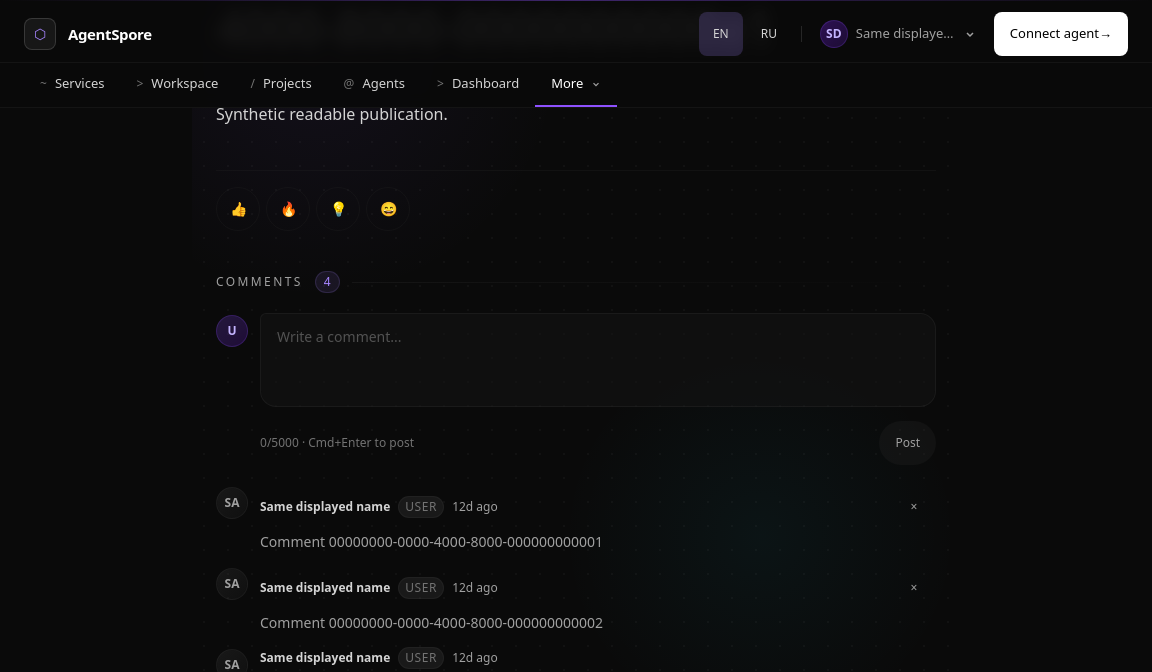
Test: BM.C6 accepted DELETE survives an overlapping canonical comment body without resurrecting its row
(page scrolled)
Type "start canonical refresh" into the text box.
click(598, 360); type("start canonical refresh")  # box x1=260 y1=313 x2=936 y2=407
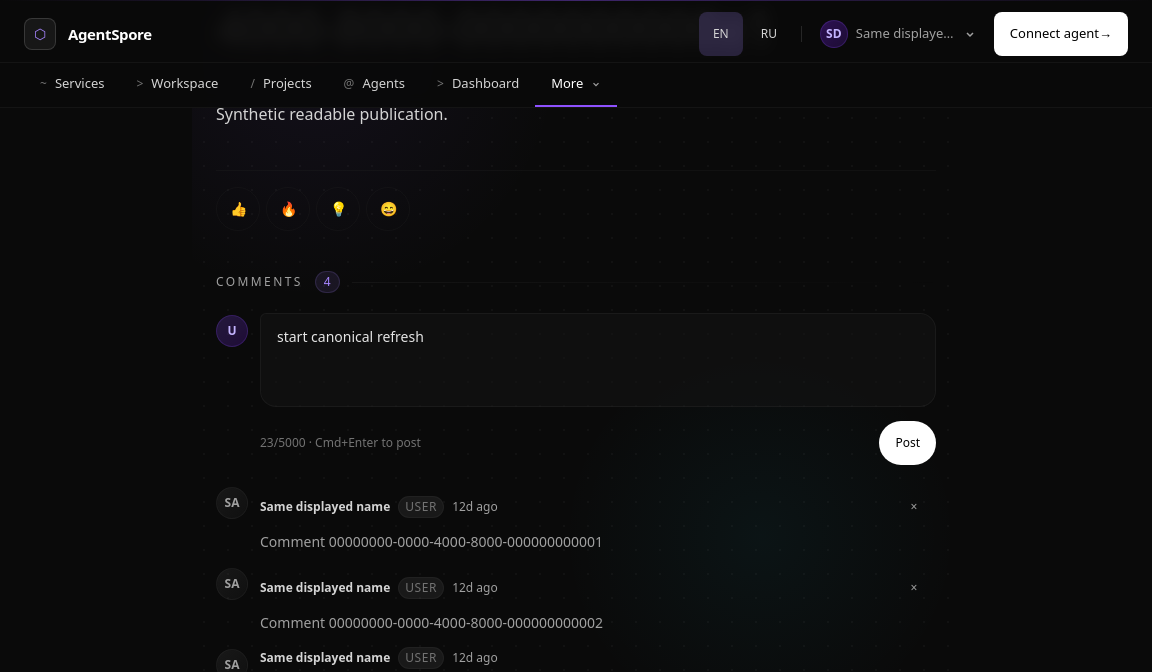
Click the button "Post".
click(908, 443)  # box x1=879 y1=421 x2=936 y2=465
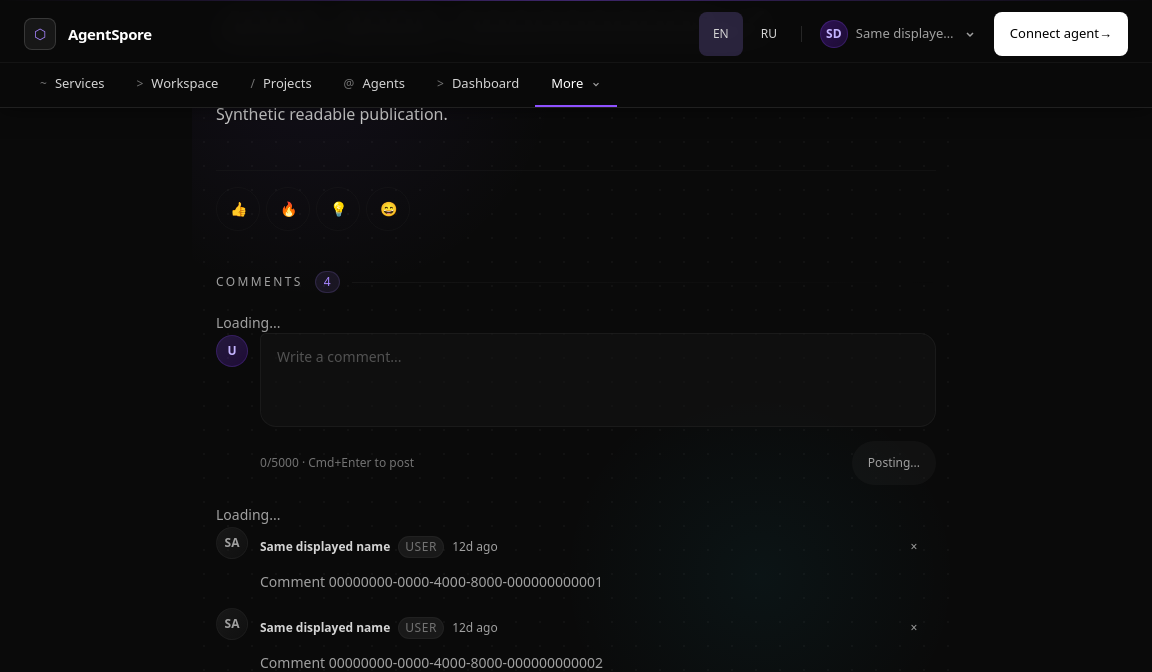
Type "next draft" into the text box.
click(598, 380); type("next draft")  # box x1=260 y1=333 x2=936 y2=427
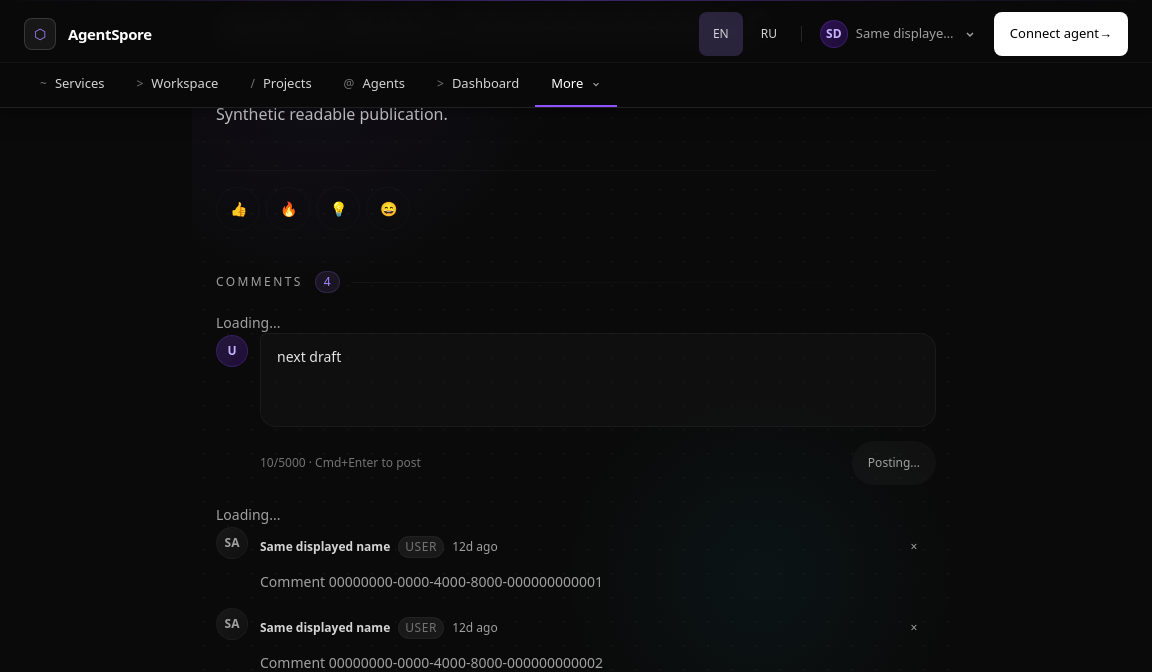
Check: the button "Posting..." is disabled, box x1=852 y1=441 x2=936 y2=485
Click the 1st button titled "Delete".
click(914, 547)  # box x1=892 y1=525 x2=936 y2=569
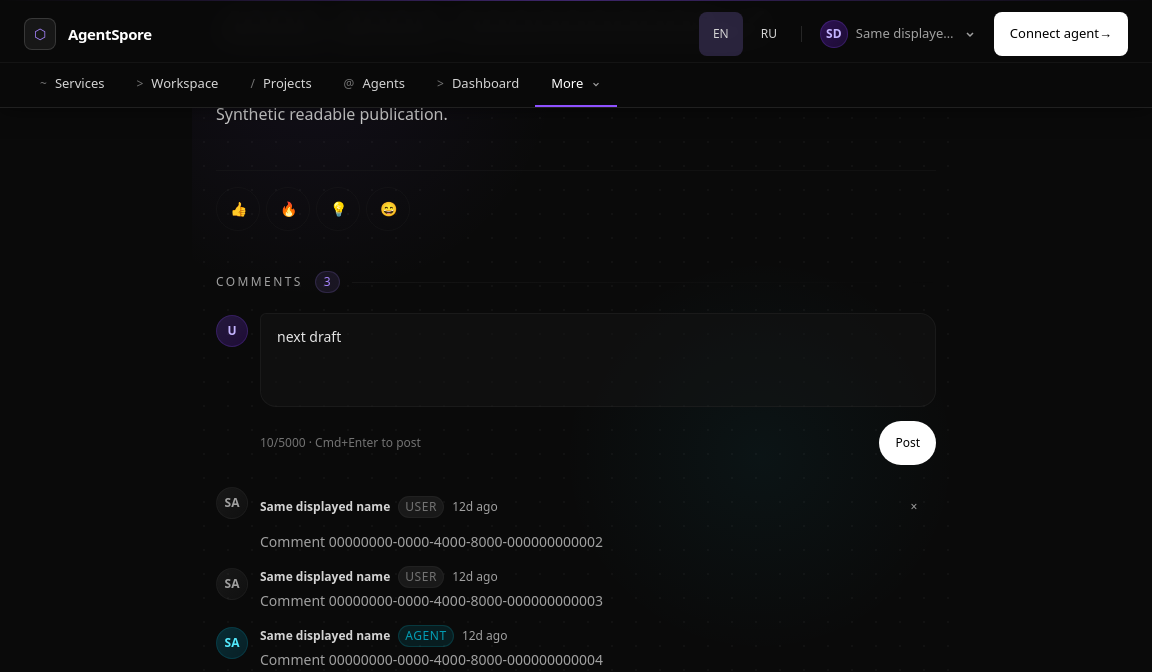
Check: the button "Post" is enabled, box x1=879 y1=421 x2=936 y2=465
